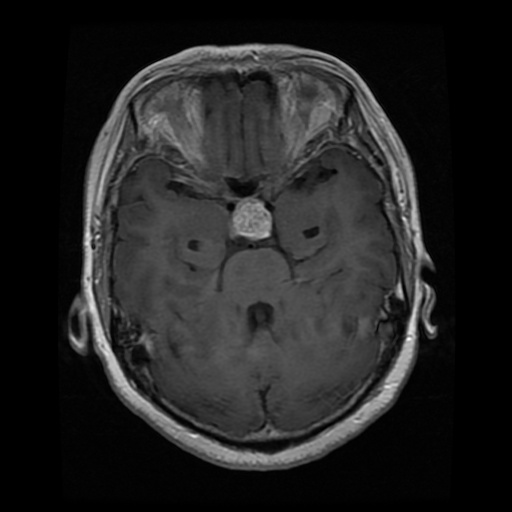pituitary: (234, 197, 271, 237)
